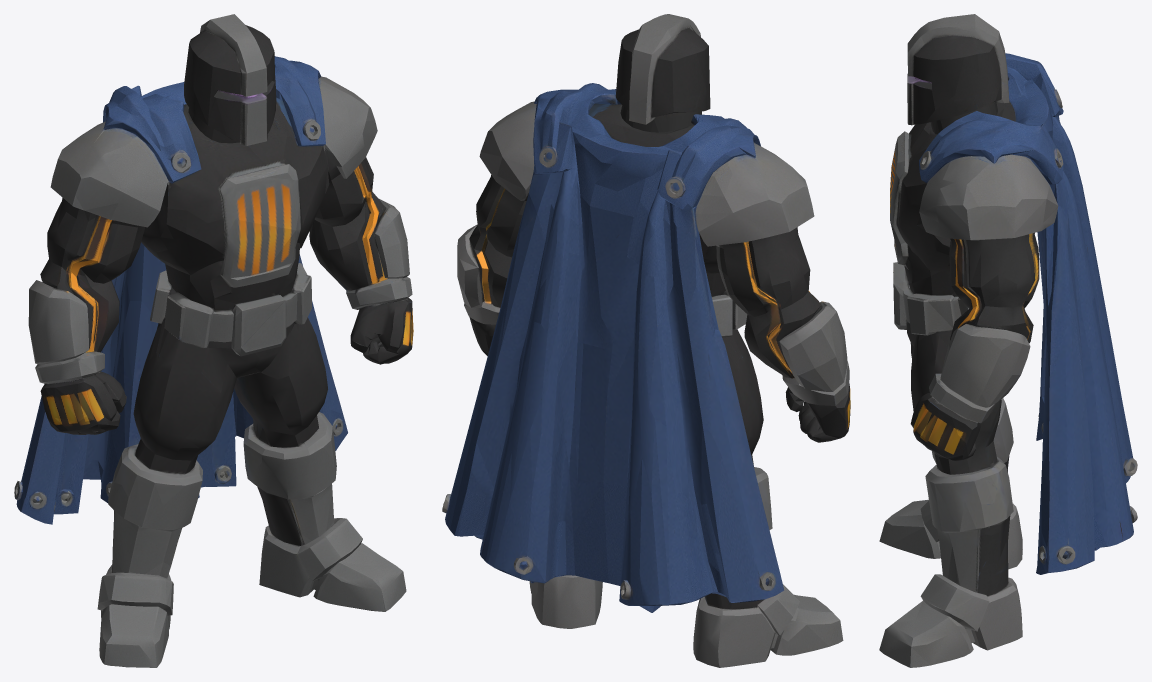
3 renders of one model, left to right at view 1: azimuth 30°, elevation 25°; view 2: azimuth 150°, elevation 25°; view 3: azimuth 270°, elevation 25°, orthographic. The views are drawn at different scales.
Bounding box in the file's own units: 1.26 × 1.9 × 0.7729.
Materials: 1 (1 with a texture image).
